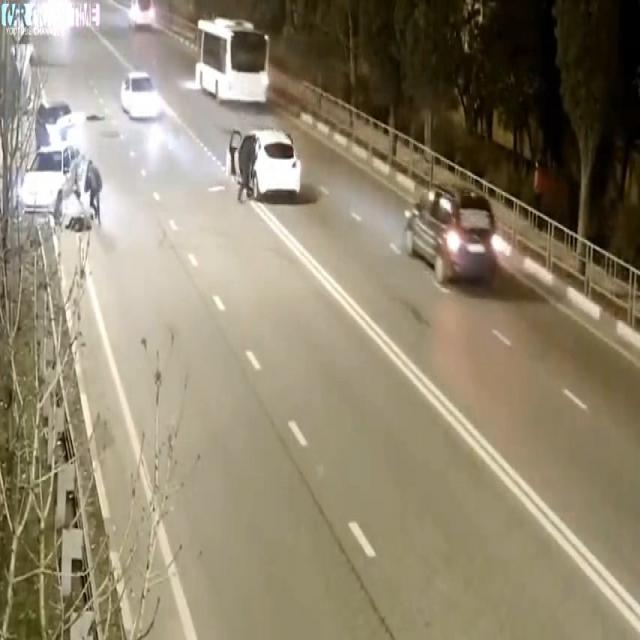Accident: (15, 79, 109, 262)
